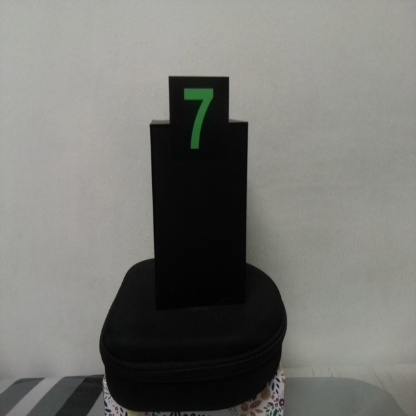id_7: (169, 76, 230, 162)
